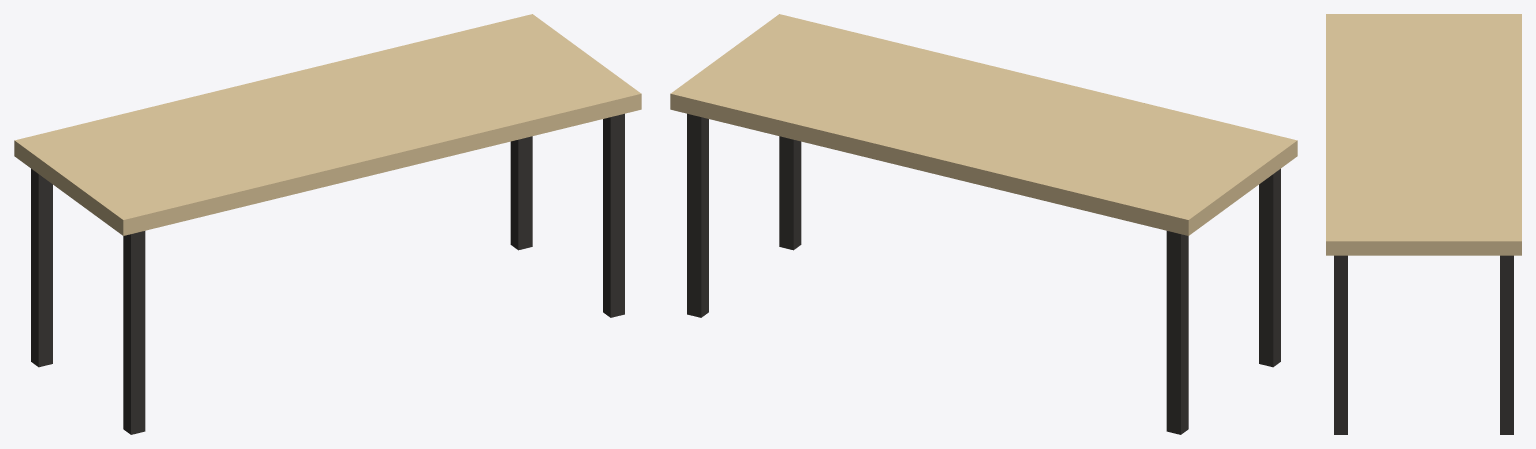
File: WoodDesk.fbx
3 renders of one model, left to right at view 1: azimuth 30°, elevation 25°; view 2: azimuth 150°, elevation 25°; view 3: azimuth 270°, elevation 25°, orthographic. The views are drawn at different scales.
Visible parts, largest first — view 1: desk3; view 2: desk3; view 3: desk3.
Part boxes in pixels (<box>): desk3: <box>14,14,641,434</box>; desk3: <box>670,14,1297,434</box>; desk3: <box>1326,14,1521,434</box>.
Size of the model in its own units: 5.99 by 2.44 by 2.18.
